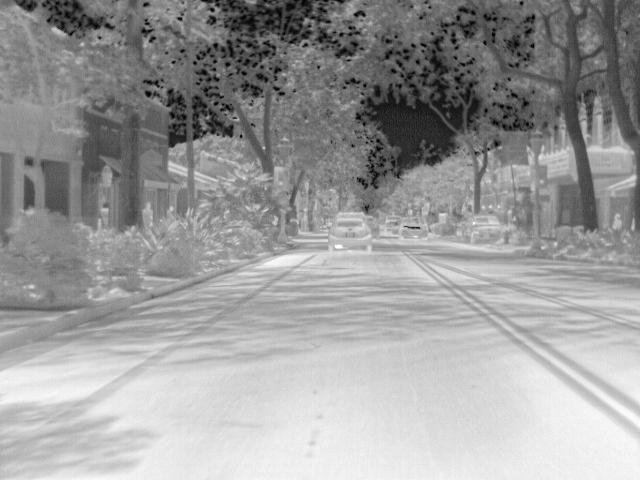car: (454, 214, 504, 246), (326, 220, 373, 252), (400, 220, 428, 240)
person: (142, 202, 156, 236), (611, 212, 626, 234)
